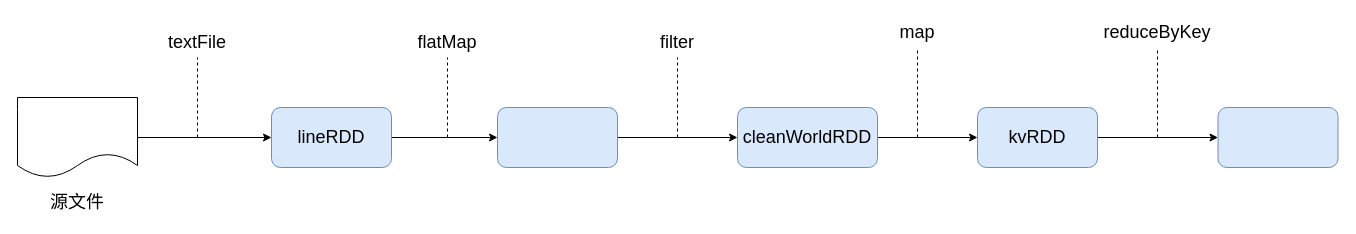
Image size: 1356x234. Some labels were removed from this diagram. Each missing label, with the centre of its shape:
"wordCounts" goes at (1277,137).
"wordRDD" goes at (557,137).
